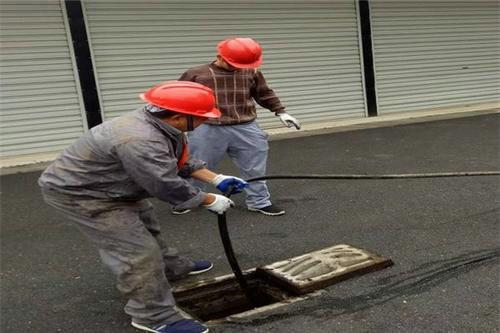helmet: (142, 82, 222, 122), (218, 39, 263, 71)
